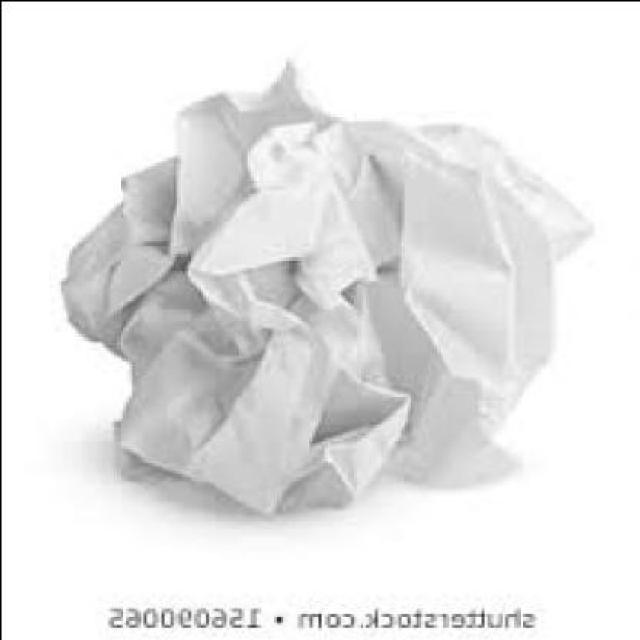PAPER: (63, 55, 595, 508)
